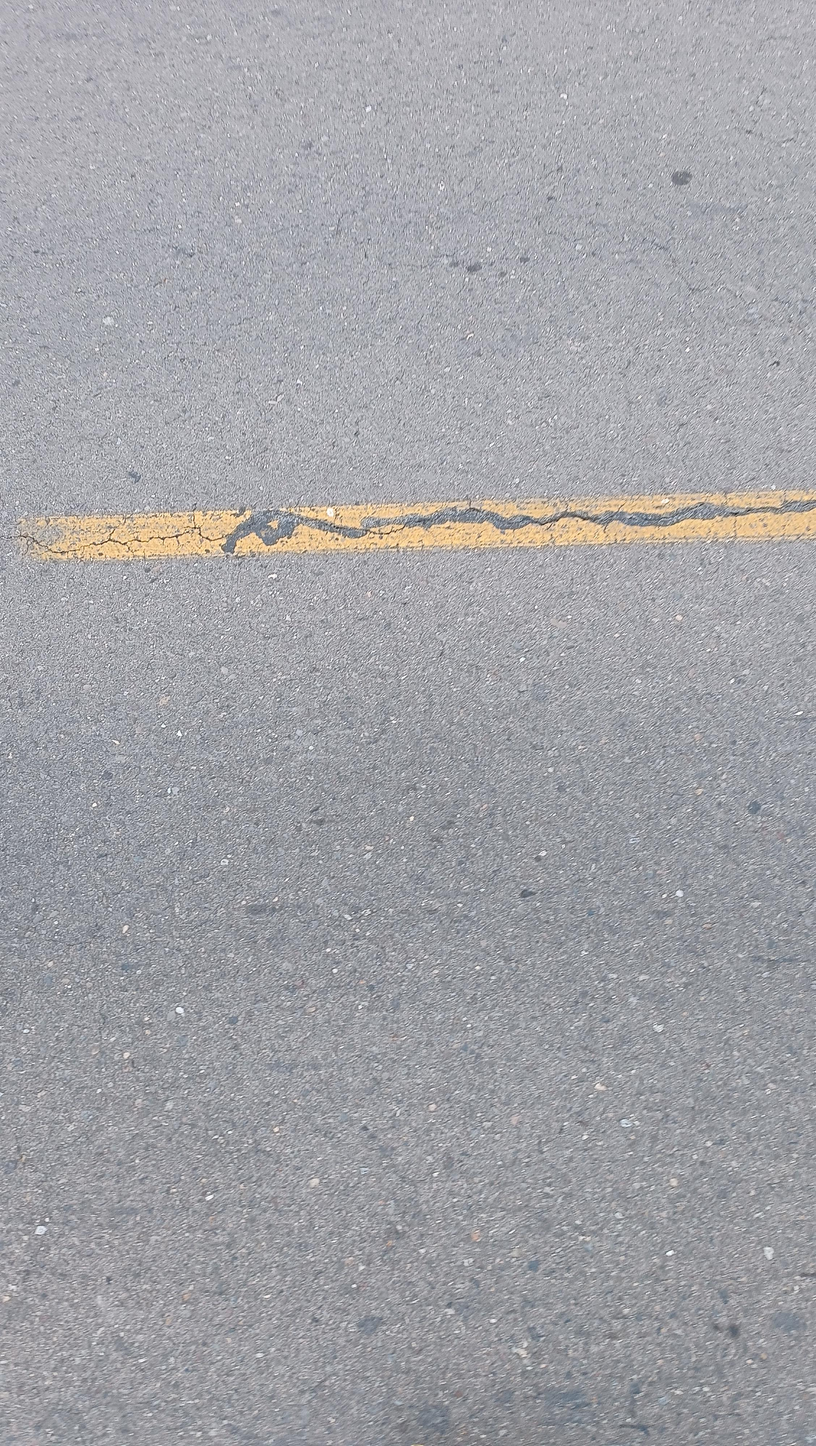GRIETA: (439, 501, 815, 529), (5, 529, 194, 554), (322, 518, 440, 536)
